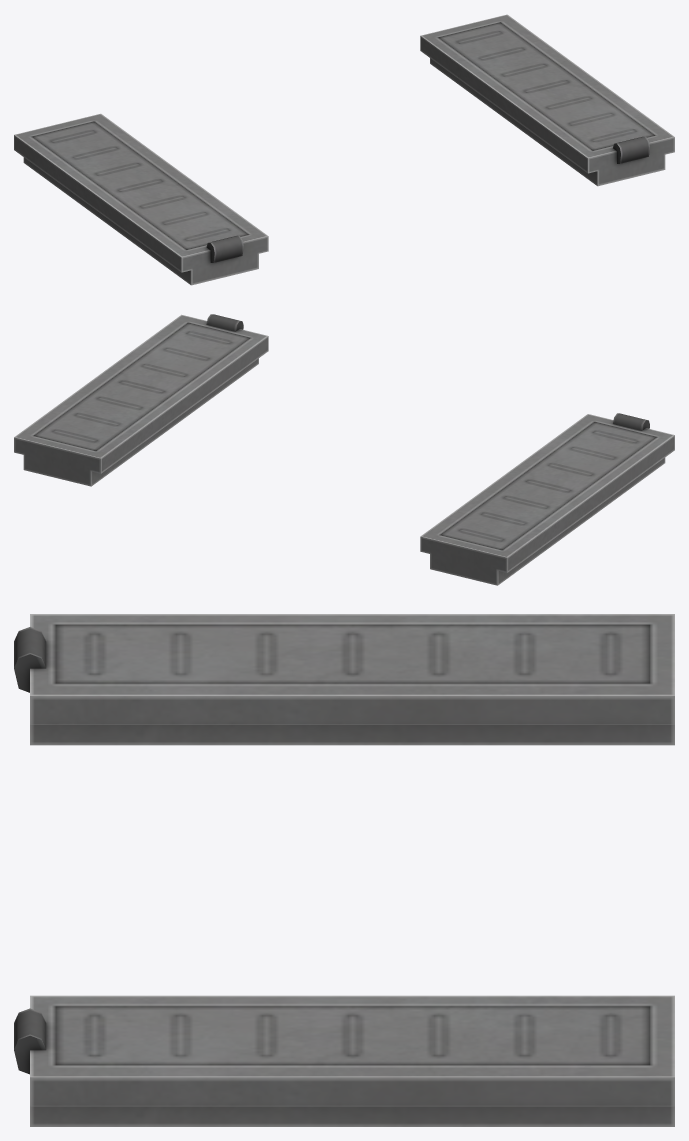
Rendered from rover_arm1.obj.
The picture shows the model from 3 angles, top to bottom: view 1: azimuth 30°, elevation 25°; view 2: azimuth 150°, elevation 25°; view 3: azimuth 270°, elevation 25°; orthographic projection. The views are drawn at different scales.
Parts seen in each view (by area): view 1: 1; view 2: 1; view 3: 1.
Part boxes in pixels (left/top/right/bottom): 1: left=14, top=14, right=674, bottom=285; 1: left=14, top=314, right=674, bottom=585; 1: left=14, top=614, right=674, bottom=1126.
Bounding box in the file's own units: 1.27 × 0.0938 × 0.7688.
Materials: 1 (1 with a texture image).
